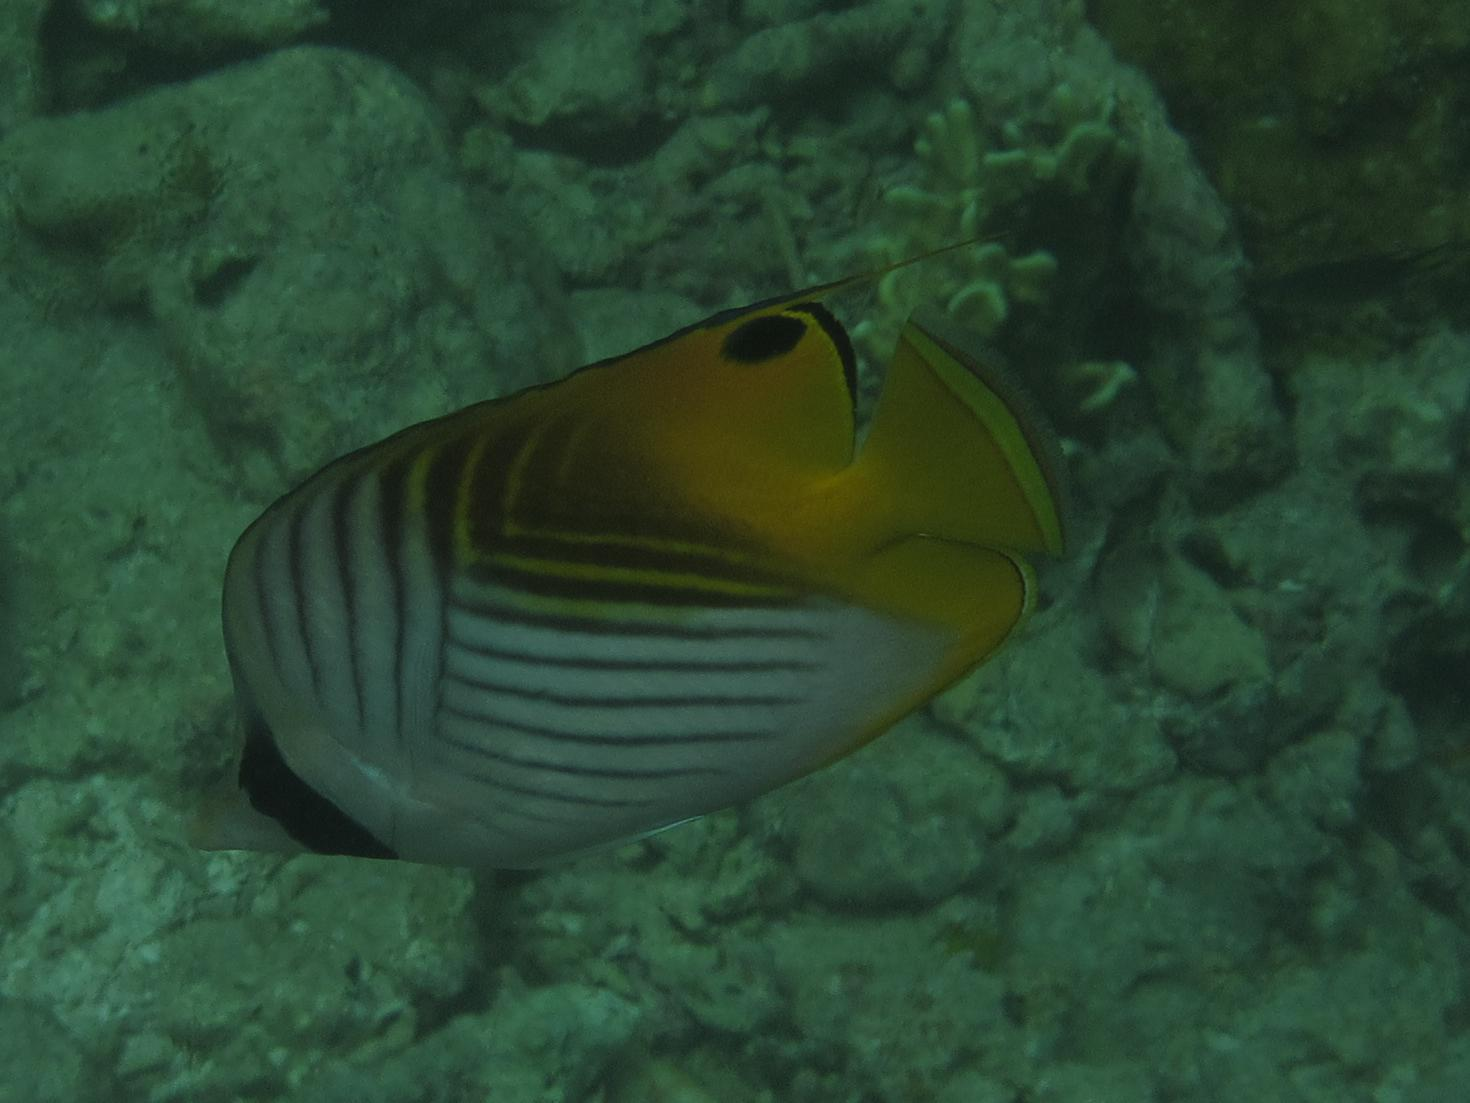Fish: (146, 204, 1173, 878)
